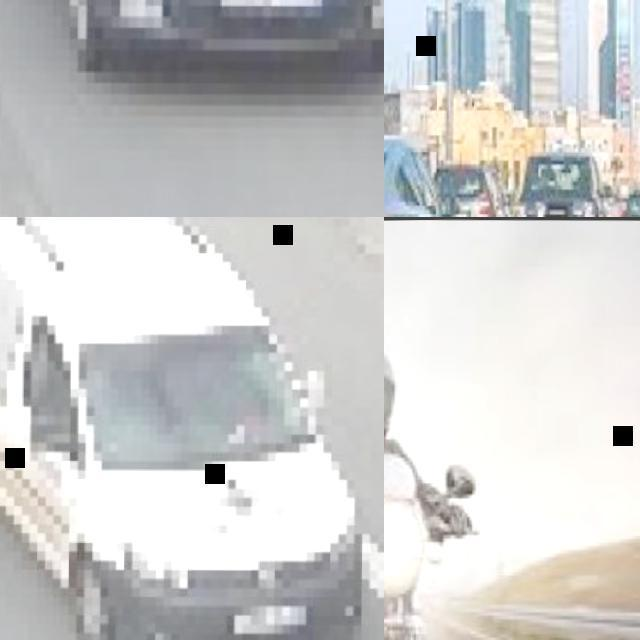car: (3, 232, 363, 639)
